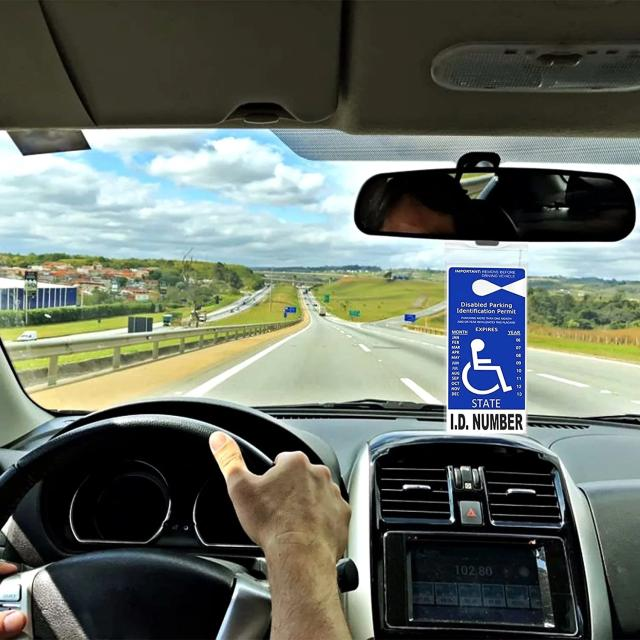car-handicap-placard: (459, 336, 516, 396)
